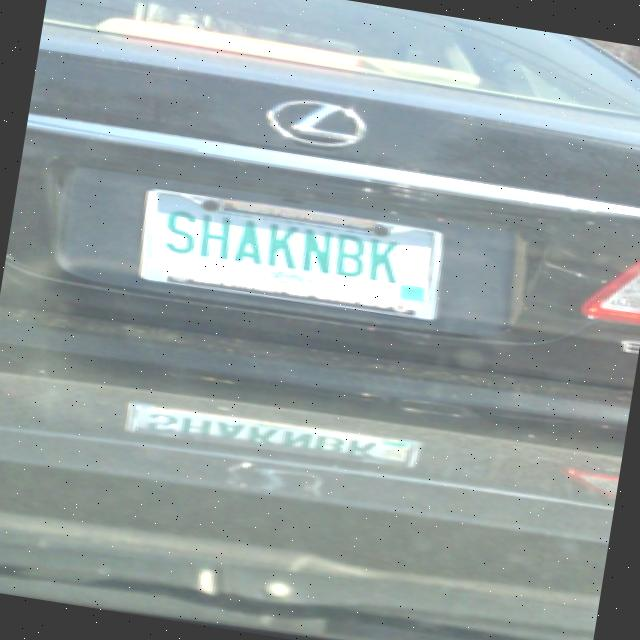Autre: (121, 184, 448, 325)
